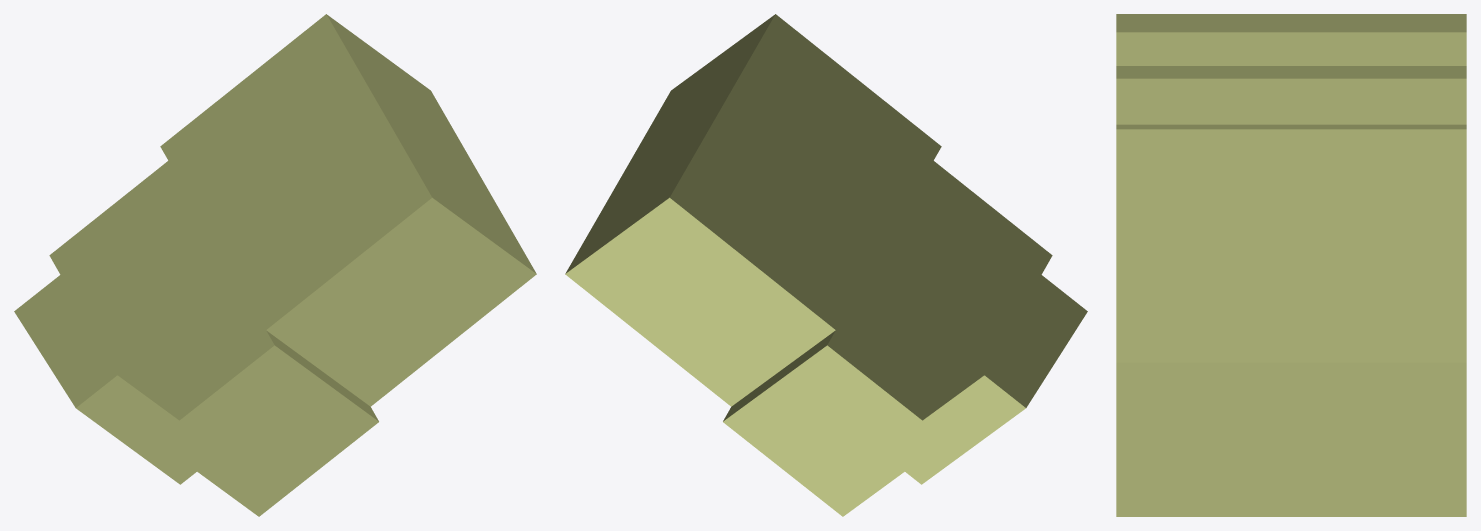
3 views of the same model, side by side, from view 1: azimuth 30°, elevation 25°; view 2: azimuth 150°, elevation 25°; view 3: azimuth 270°, elevation 25° (orthographic). The views are drawn at different scales.
Parts seen in each view (by area): view 1: 0_1_0_2_0_0_3_0_1_2; view 2: 0_1_0_2_0_0_3_0_1_2; view 3: 0_1_0_2_0_0_3_0_1_2.
Part boxes in pixels (left/top/right/bottom): 0_1_0_2_0_0_3_0_1_2: left=14, top=14, right=536, bottom=516; 0_1_0_2_0_0_3_0_1_2: left=565, top=14, right=1087, bottom=516; 0_1_0_2_0_0_3_0_1_2: left=1116, top=14, right=1466, bottom=516.
Size of the model in its own units: 13.85 by 12.16 by 6.
